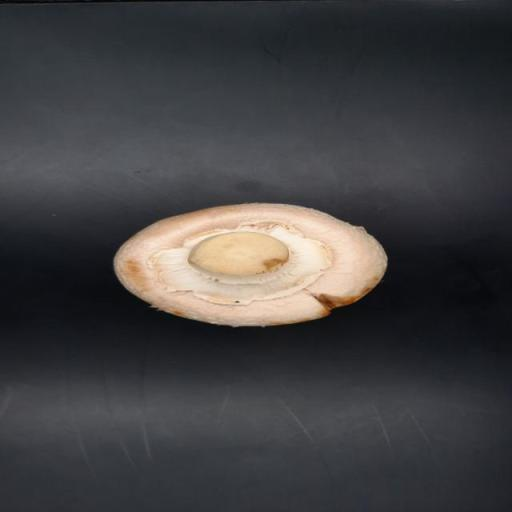Button Mushroom: (112, 201, 389, 330)
